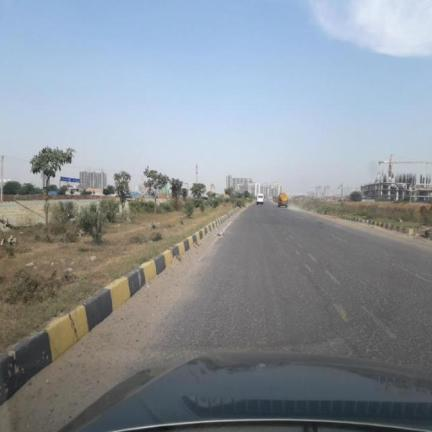Road: (0, 202, 431, 431)
